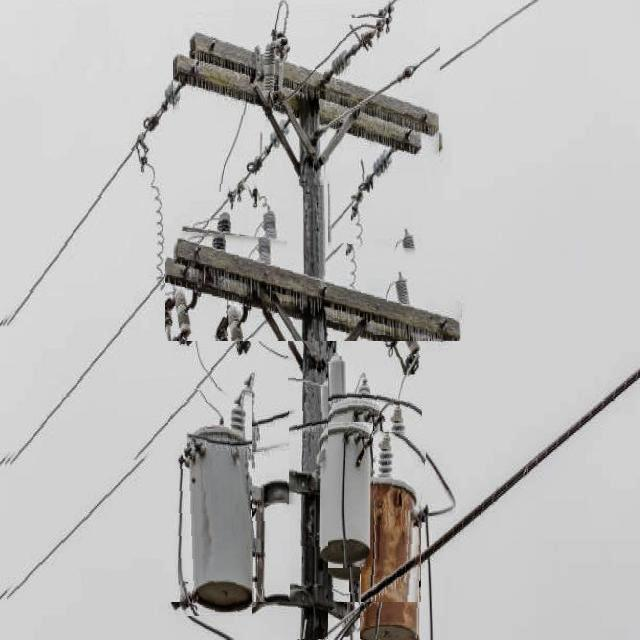crossarm: (173, 18, 441, 189), (165, 235, 461, 341)
pole: (287, 72, 328, 640)
transformer: (177, 392, 252, 616), (361, 431, 422, 598), (315, 422, 373, 569), (360, 568, 420, 639)
wire: (5, 153, 421, 602), (8, 0, 403, 468)
